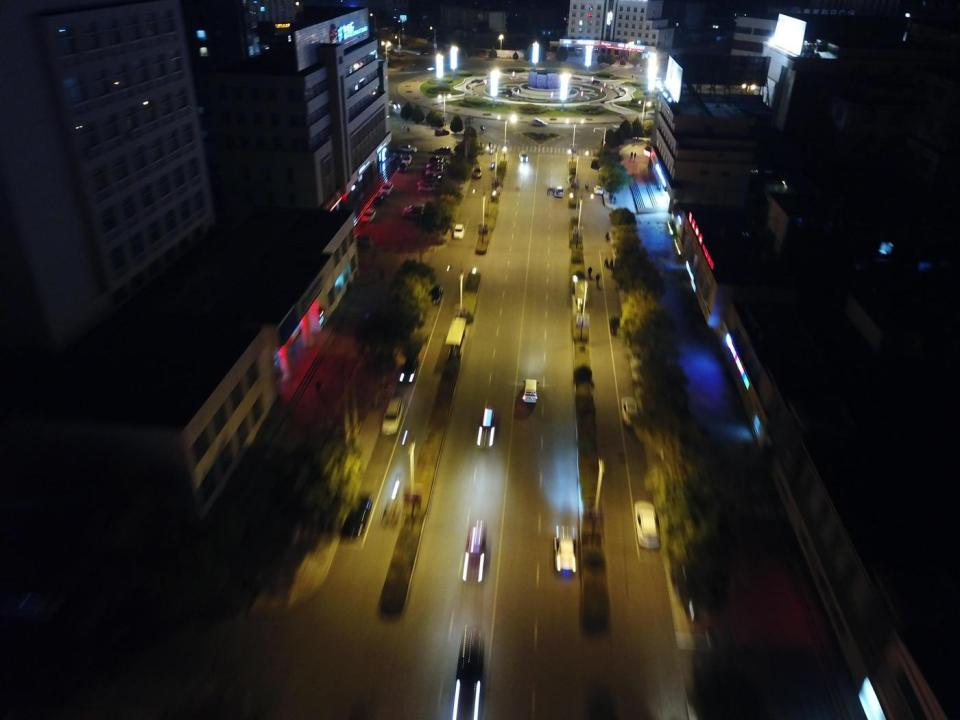car: (450, 632, 485, 720), (462, 520, 491, 582), (342, 492, 372, 538), (555, 524, 578, 578), (635, 502, 659, 549), (476, 407, 494, 447), (397, 355, 419, 384), (620, 395, 638, 424), (609, 316, 626, 338), (428, 284, 443, 304), (352, 232, 372, 246), (404, 204, 425, 214), (452, 223, 465, 239), (401, 209, 423, 218), (362, 209, 377, 222), (380, 181, 393, 195), (434, 146, 453, 155), (425, 167, 444, 176), (417, 178, 439, 185), (531, 117, 548, 126), (399, 144, 418, 152), (418, 184, 436, 192), (426, 162, 446, 169), (434, 127, 449, 136), (590, 157, 601, 169), (420, 48, 432, 58), (430, 156, 446, 163), (473, 166, 482, 178), (519, 150, 527, 163), (402, 153, 411, 164), (374, 195, 383, 205), (389, 100, 400, 108), (556, 187, 564, 198), (594, 184, 603, 193), (399, 162, 407, 172), (610, 193, 617, 204)
van: (381, 395, 403, 434), (522, 378, 537, 402)
